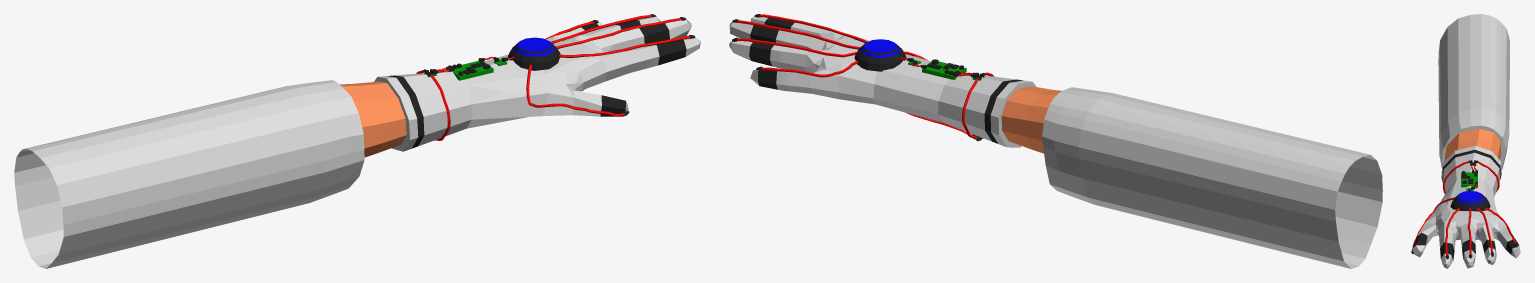
The model's file is Hand.fbx.
The picture shows the model from 3 angles, left to right: view 1: azimuth 30°, elevation 25°; view 2: azimuth 150°, elevation 25°; view 3: azimuth 270°, elevation 25°; orthographic projection. The views are drawn at different scales.
Visible parts, largest first — view 1: Box017; view 2: Box017; view 3: Box017.
Part boxes in pixels (x1,y1,x2,y2): Box017: (14,14,700,268); Box017: (729,14,1382,268); Box017: (1411,14,1520,268).
Size of the model in its own units: 56.13 by 9.23 by 11.23.
